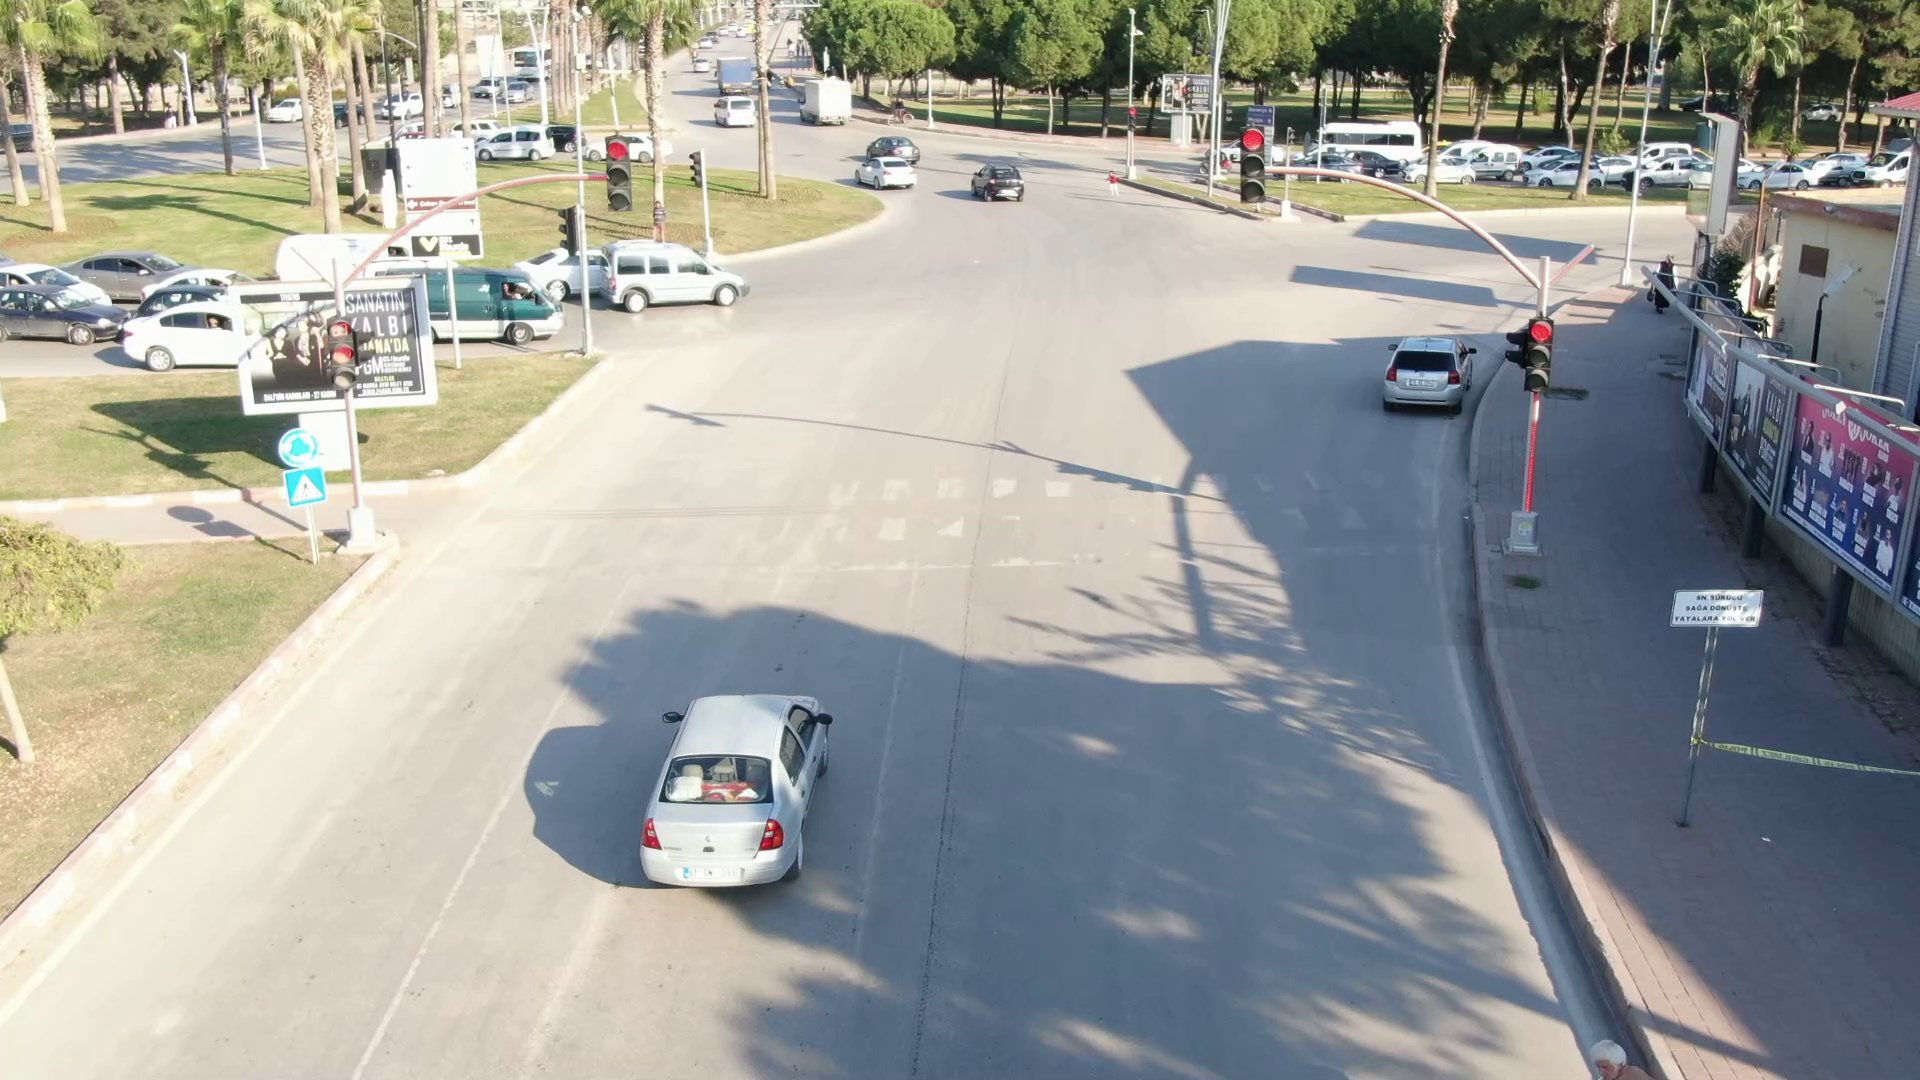car: (584, 640, 891, 913), (1345, 306, 1486, 443), (592, 229, 766, 334), (956, 150, 1034, 214), (702, 84, 761, 137)
